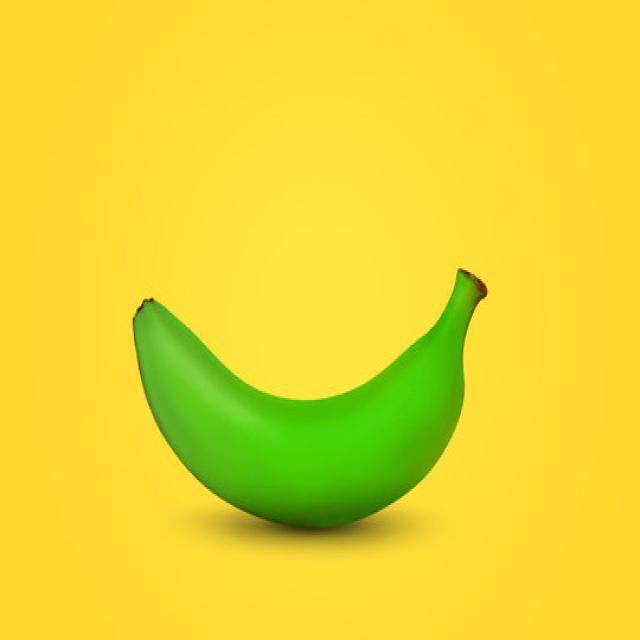non_orange: (132, 262, 488, 533)
